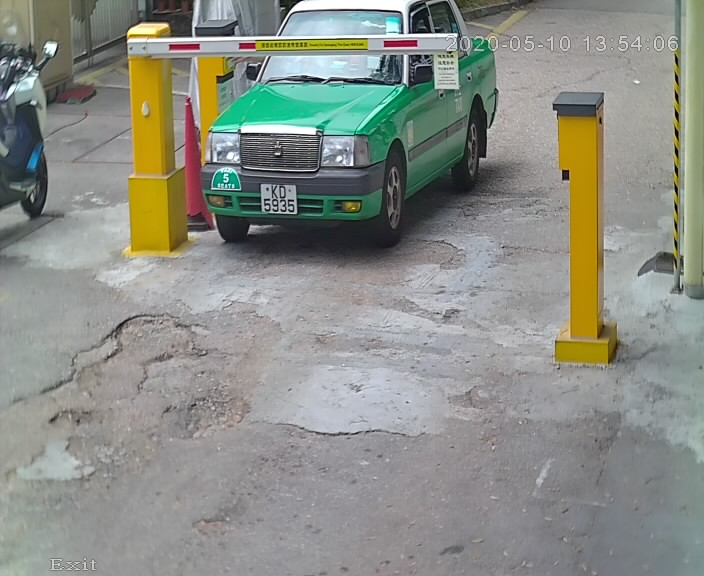taxi: (184, 2, 542, 287)
taxi_mark: (209, 159, 248, 197)
